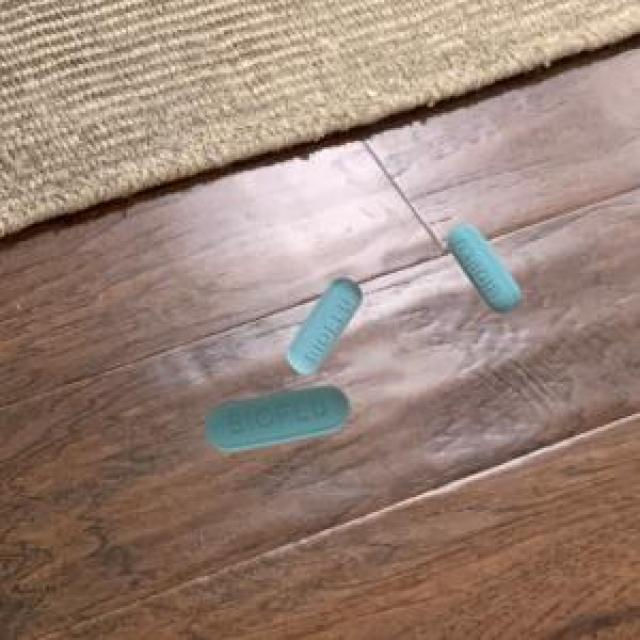Bioflu: (200, 380, 357, 469), (432, 214, 538, 327), (279, 266, 368, 372)
